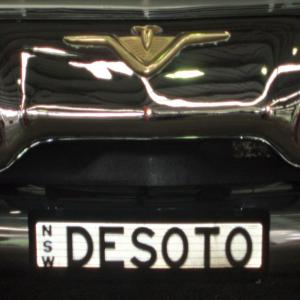Vehicle-registration-plate: (35, 222, 264, 270)
